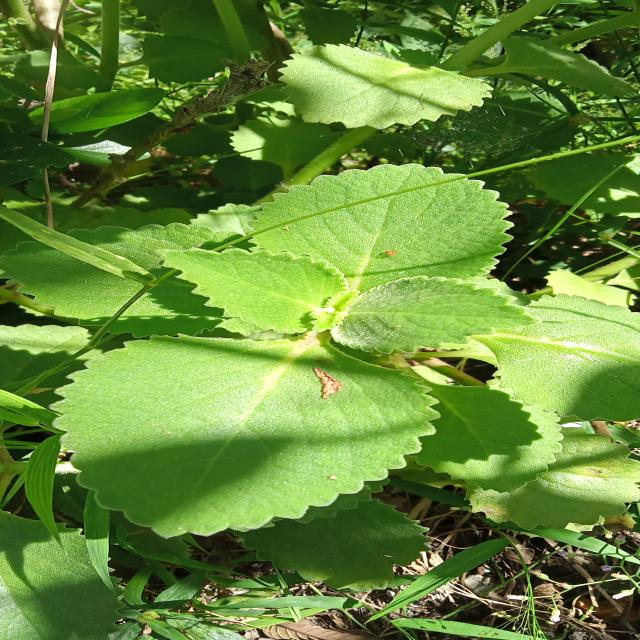Oregano: (46, 325, 458, 529), (162, 161, 561, 357)
